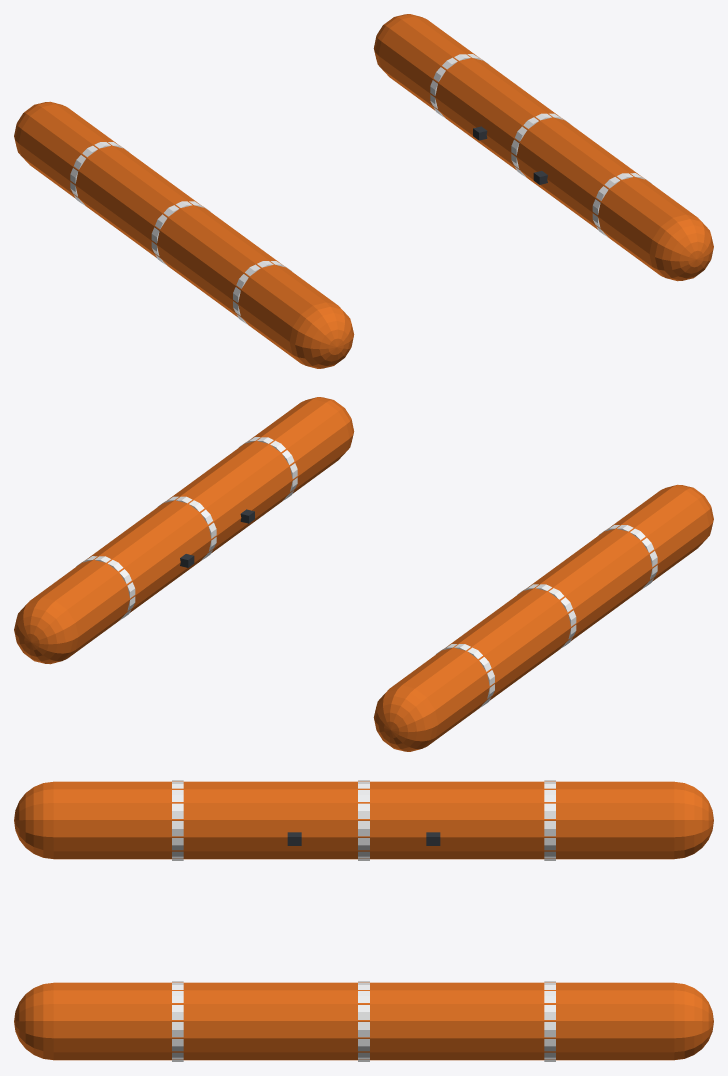
The model's file is brute_500.glb.
The picture shows the model from 3 angles, top to bottom: view 1: azimuth 30°, elevation 25°; view 2: azimuth 150°, elevation 25°; view 3: azimuth 270°, elevation 25°; orthographic projection. The views are drawn at different scales.
Parts seen in each view (by area): view 1: model; view 2: model; view 3: model.
Part boxes in pixels (left/top/right/bottom): model: left=14, top=14, right=713, bottom=368; model: left=14, top=397, right=713, bottom=751; model: left=14, top=780, right=713, bottom=1061.
Size of the model in its own units: 2.8 by 0.4078 by 3.53.
Materials: 1 (1 with a texture image).
